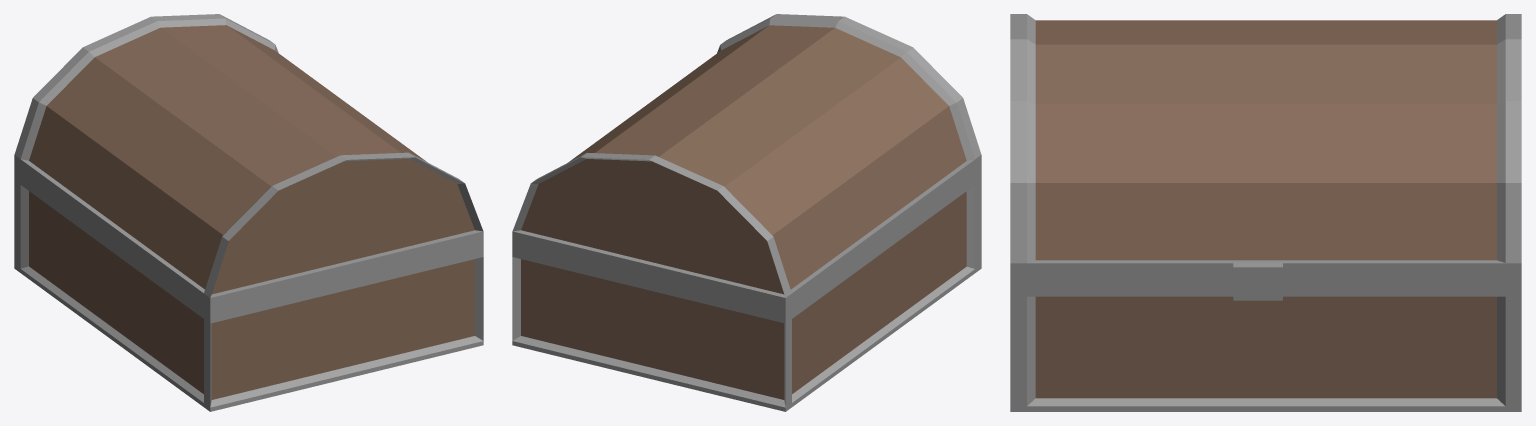
The model's file is Chest.fbx.
3 renders of one model, left to right at view 1: azimuth 30°, elevation 25°; view 2: azimuth 150°, elevation 25°; view 3: azimuth 270°, elevation 25°, orthographic. The views are drawn at different scales.
Parts seen in each view (by area): view 1: pCylinder7; view 2: pCylinder7; view 3: pCylinder7.
Part boxes in pixels (x1,y1,x2,y2): pCylinder7: (14, 14, 483, 411); pCylinder7: (512, 14, 981, 411); pCylinder7: (1010, 14, 1521, 411).
Bounding box in the file's own units: 2.9 × 2.17 × 3.52.
